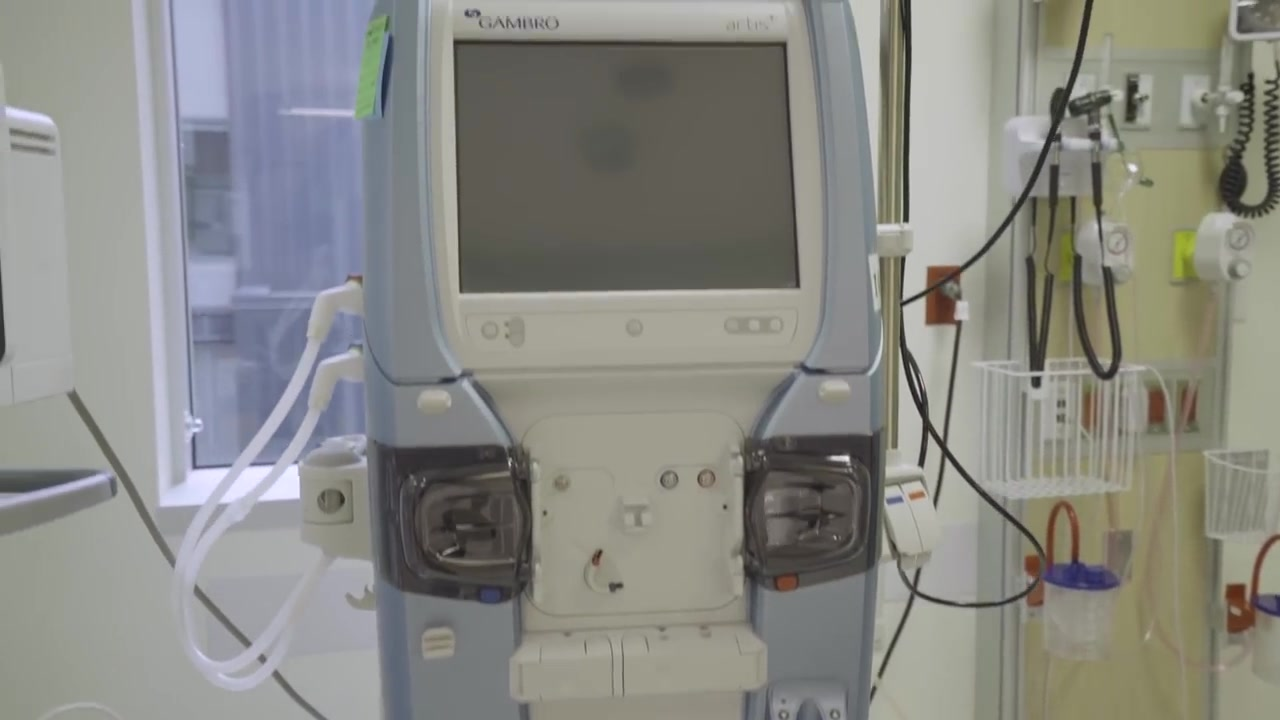bedside_monitor: (436, 32, 802, 288)
breathing_tube: (169, 253, 363, 696)
iv_pole: (870, 1, 915, 468)
ventilator: (296, 6, 889, 720)
